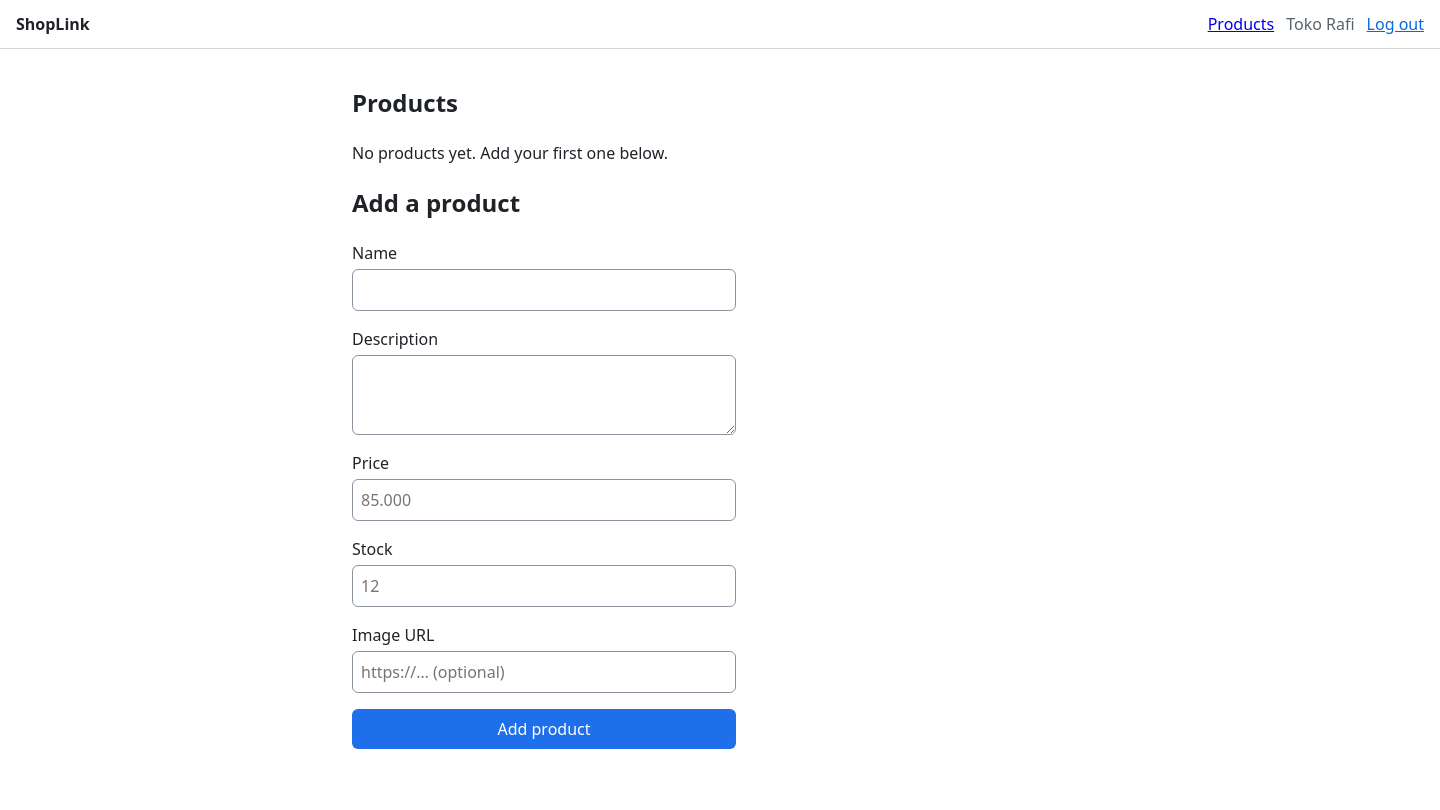
products page › catches a price with nothing before sending it
The image size is (1440, 810).
Expected: the text "No products yet. Add your first one below." is shown, [352,142,668,164]
Type "Mug" into the field labelled "Name" at (544,290), box [352,269,736,311]
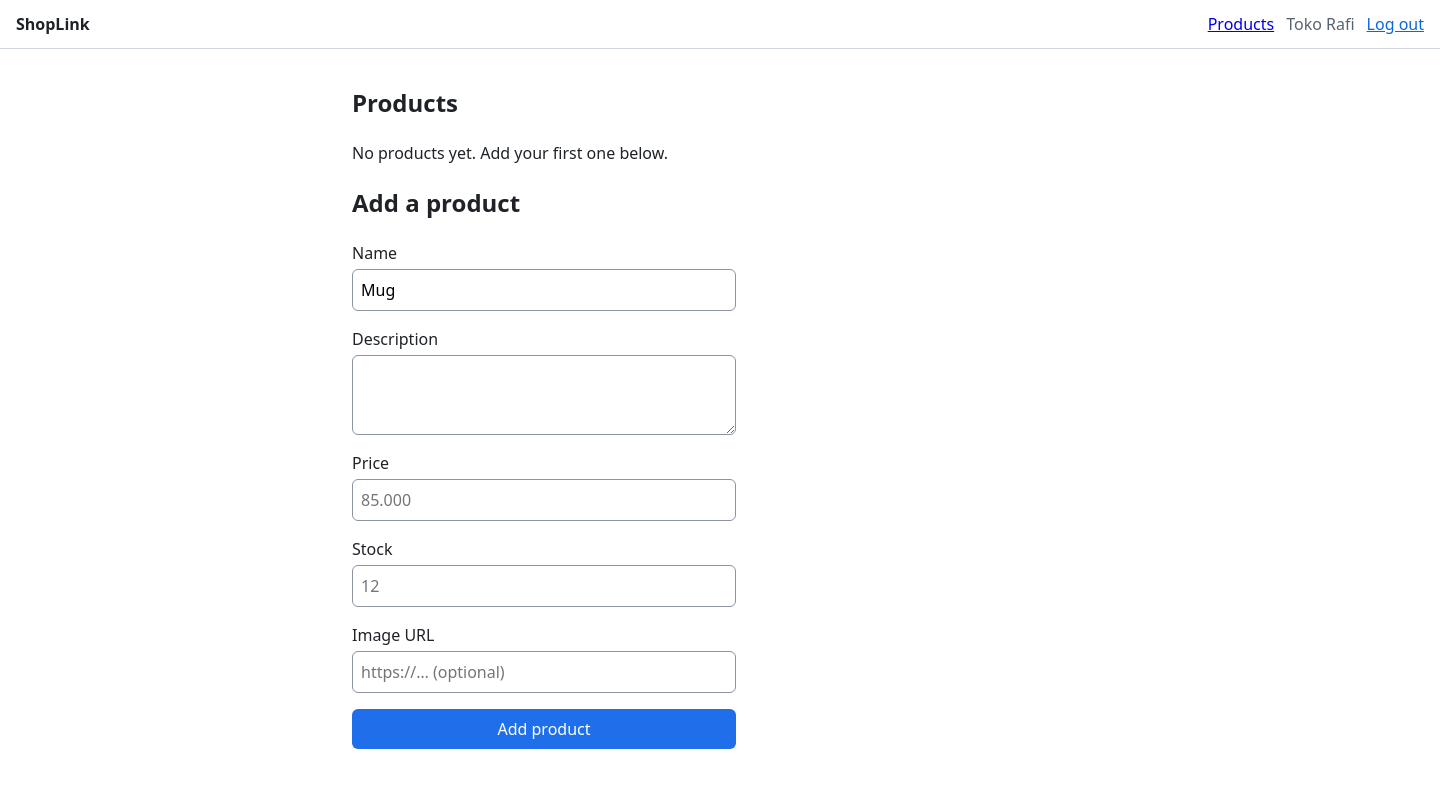
Type "1" into the field labelled "Stock" at (544,586), box [352,565,736,607]
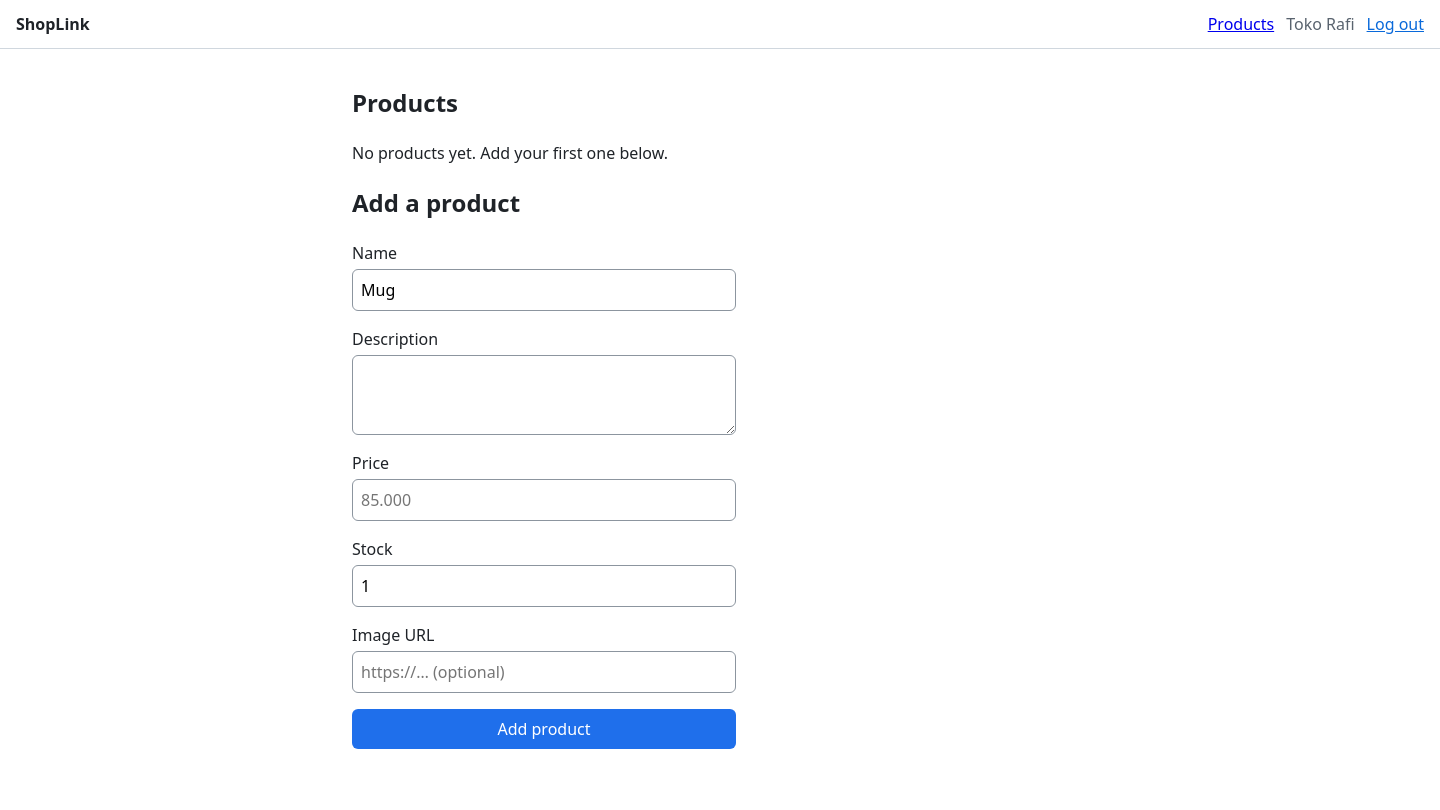
Click the button "Add product" at (544,729), box [352,709,736,749]
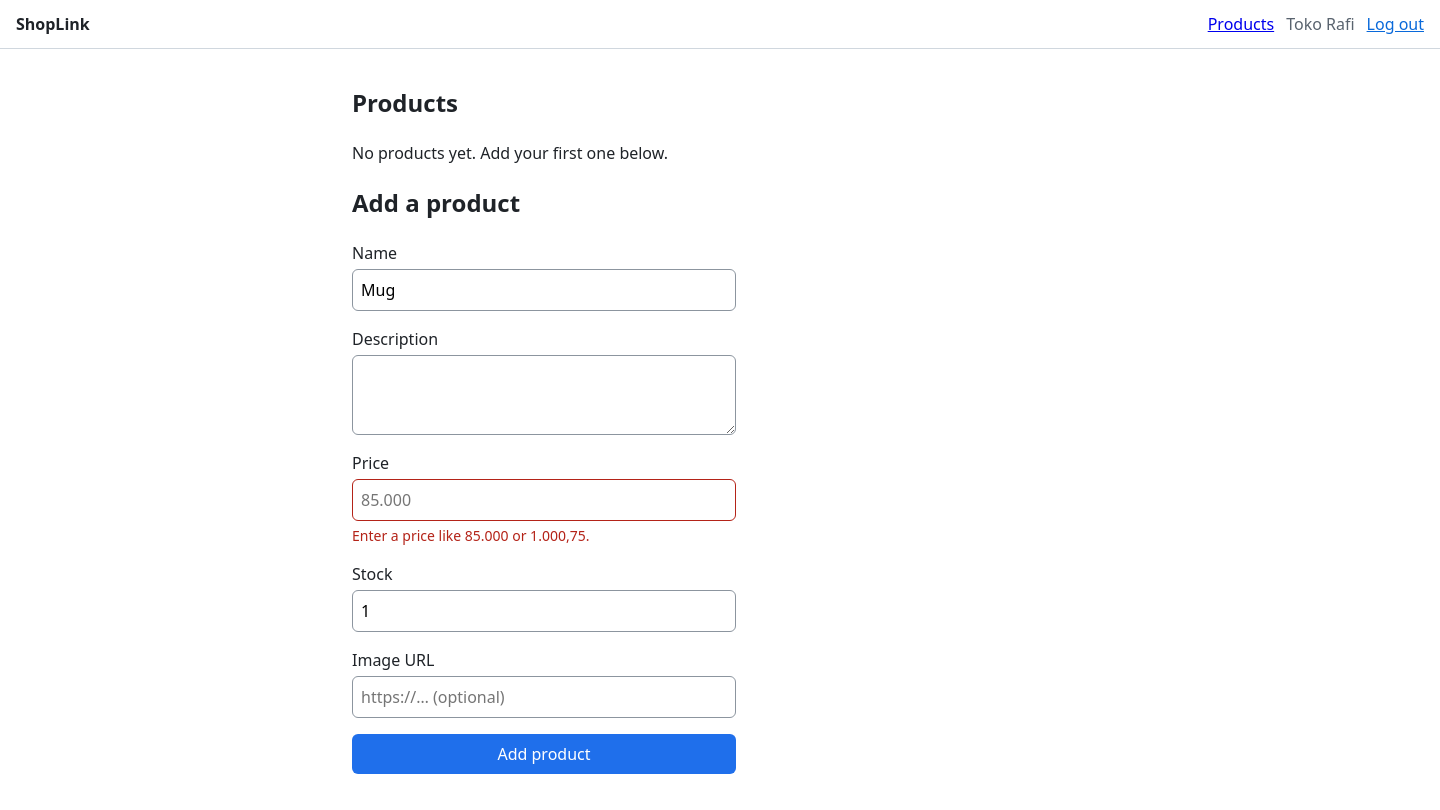
Expected: the text "Enter a price like 85.000 or 1.000,75." is shown, [352,526,589,545]
